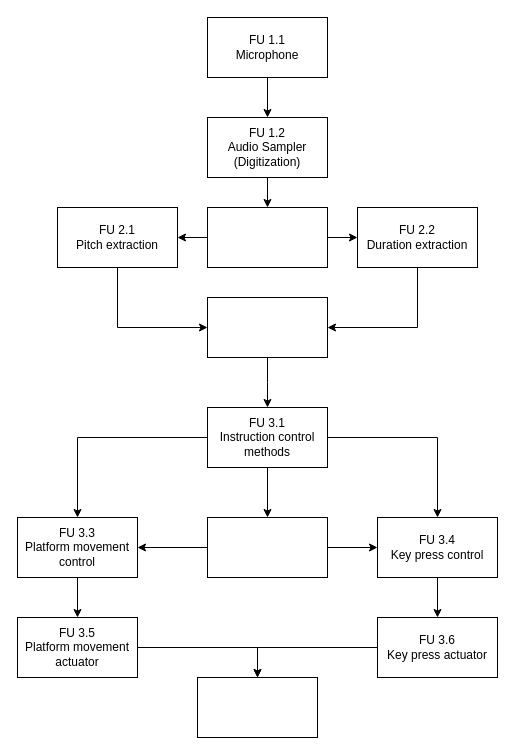
This 515x755 diagram has some shape labels left out. The shapes that lost their labels are listed below. From the top down, each one's centre as x and y in pixels, then its label:
point 267,237: FU 1.3 Tune isolation
point 267,327: FU 2.3 Note and duration indexing
point 267,547: FU 3.2 Cadence control
point 257,707: FU 4 Musical Keyboard
